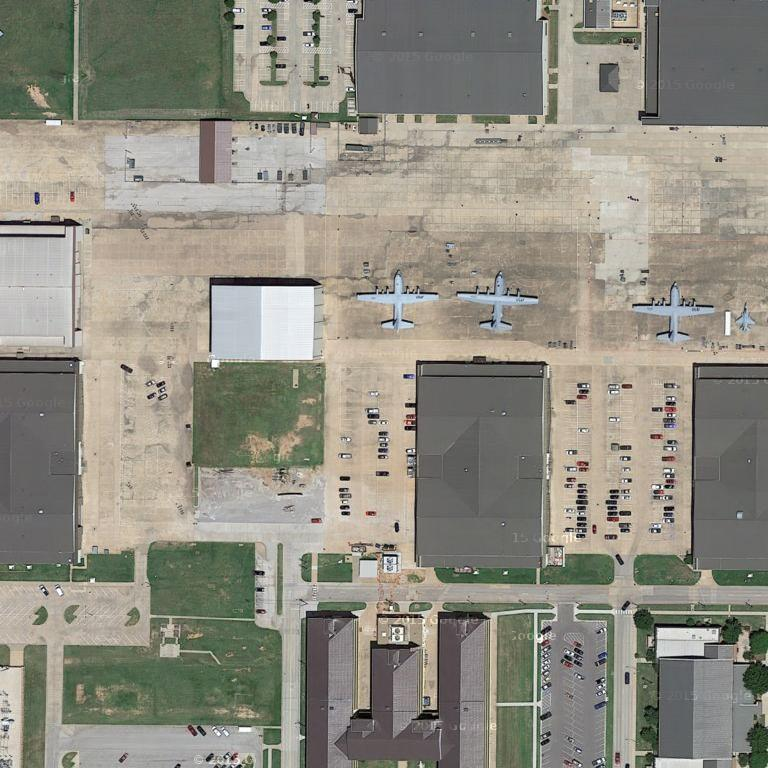C-130: (355, 269, 439, 330), (454, 270, 538, 329), (631, 283, 714, 340)
F-15: (731, 299, 759, 334)
